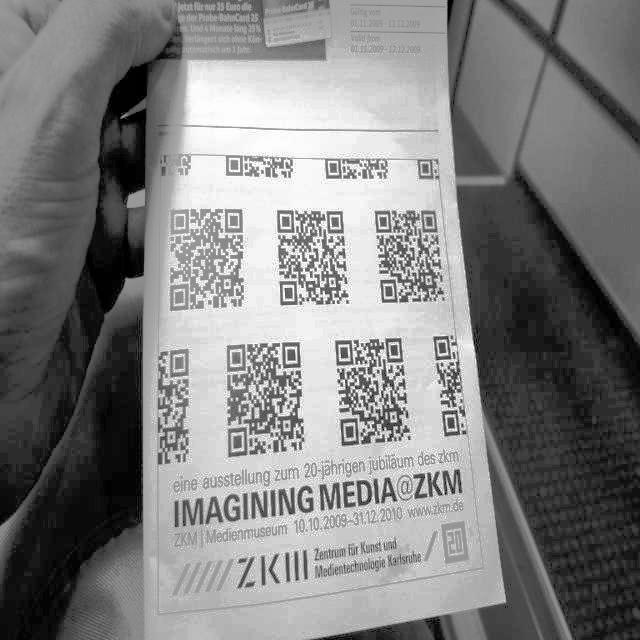qr_code: (227, 342, 305, 457), (335, 338, 411, 446), (170, 209, 244, 311), (278, 210, 349, 305), (375, 211, 444, 303), (158, 349, 188, 465), (433, 335, 467, 436), (226, 155, 293, 178), (325, 159, 388, 178), (161, 155, 190, 177), (417, 159, 439, 179)
